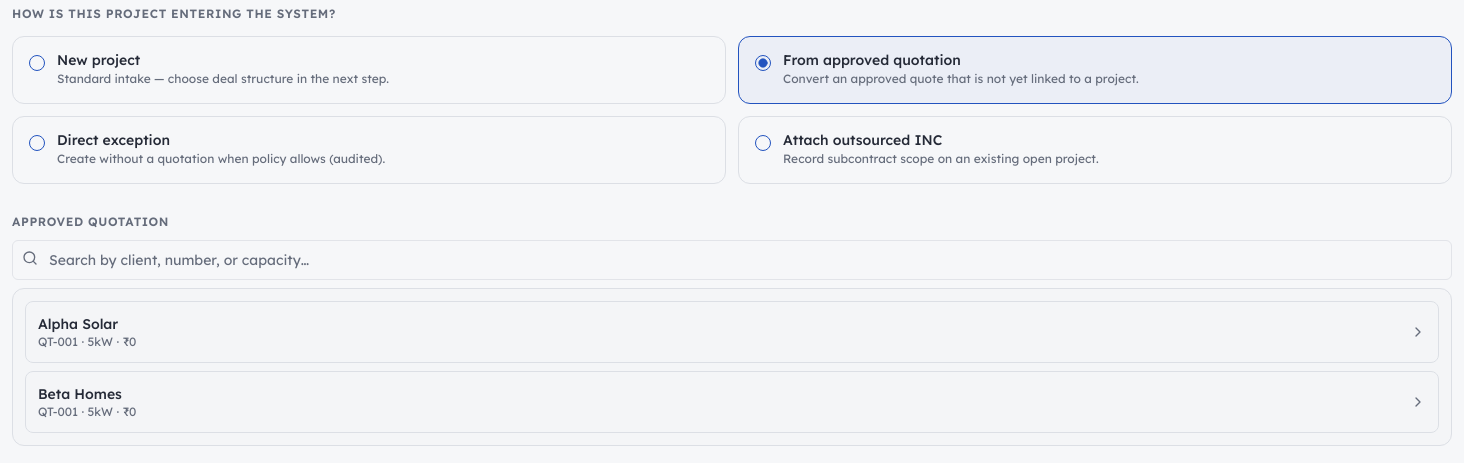
Test: SourceStep › filters quotations by search query
Type "beta" into the field with test id "wizard-quotation-picker-search". click: coordinates (732, 260)
box: left=12, top=240, right=1452, bottom=280
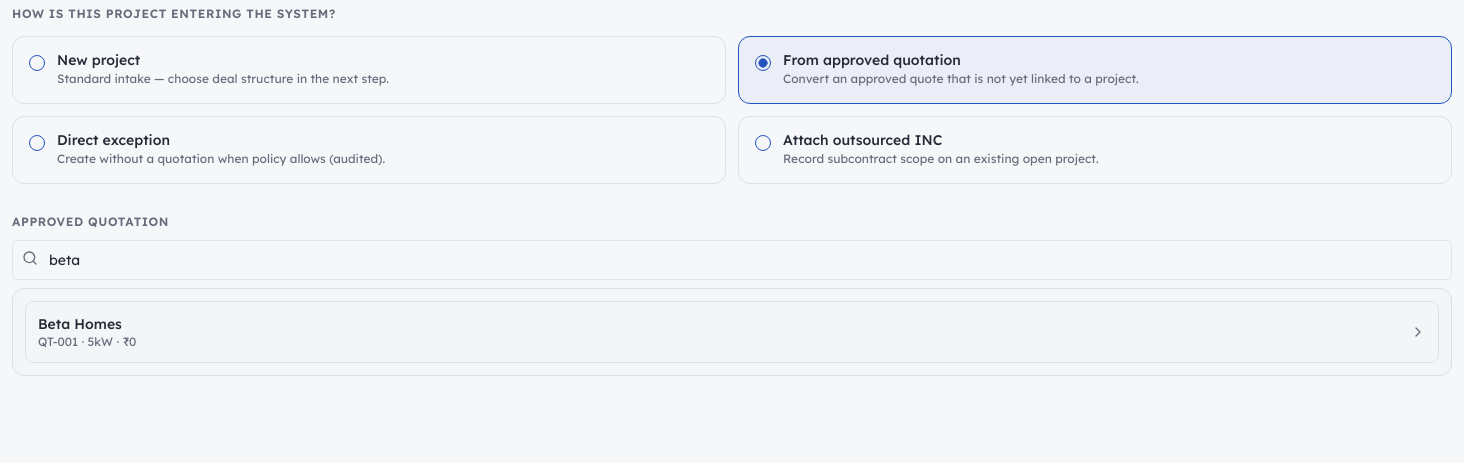
Expected: the button with test id "wizard-quotation-picker-item-Q-2" is shown, left=25, top=301, right=1439, bottom=363
Expected: the button with test id "wizard-quotation-picker-item-Q-1" is gone
